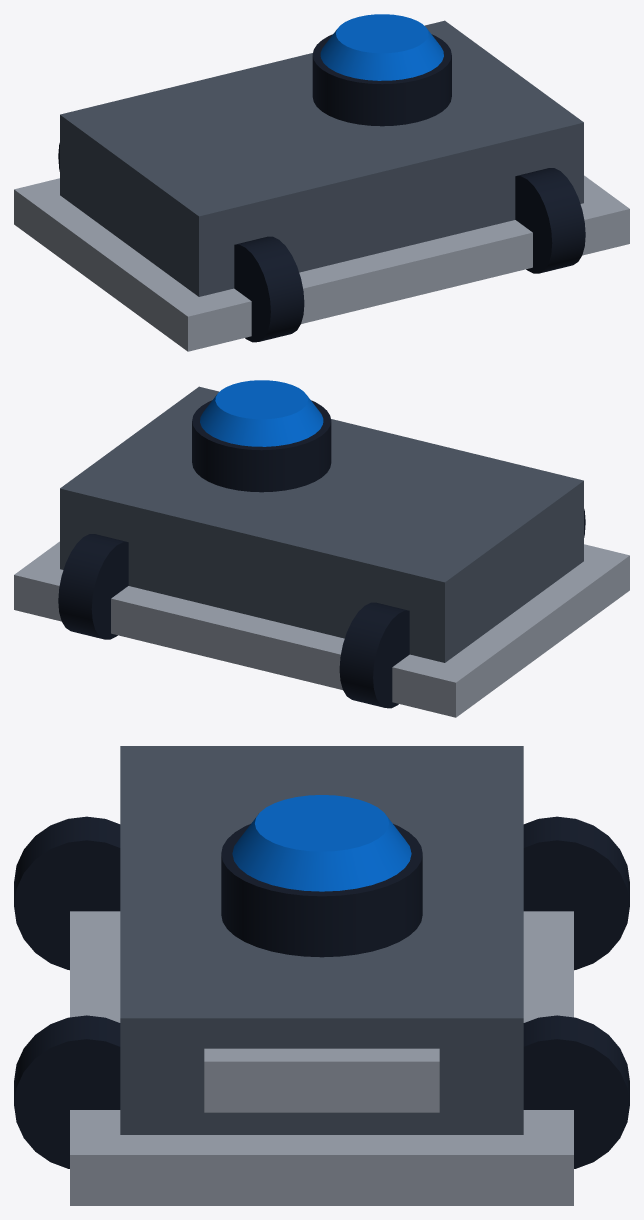
The model's file is mobile-robot-amr.glb.
3 views of the same model, one above another, from view 1: azimuth 30°, elevation 25°; view 2: azimuth 150°, elevation 25°; view 3: azimuth 270°, elevation 25° (orthographic). The views are drawn at different scales.
Parts seen in each view (by area): view 1: mobile-robot-amr; view 2: mobile-robot-amr; view 3: mobile-robot-amr.
Boxes of the visible parts, <box> form: mobile-robot-amr: <box>14,14,629,351</box>; mobile-robot-amr: <box>14,380,629,717</box>; mobile-robot-amr: <box>14,746,629,1205</box>.
Bounding box in the file's own units: 1.32 × 0.55 × 1.1.
